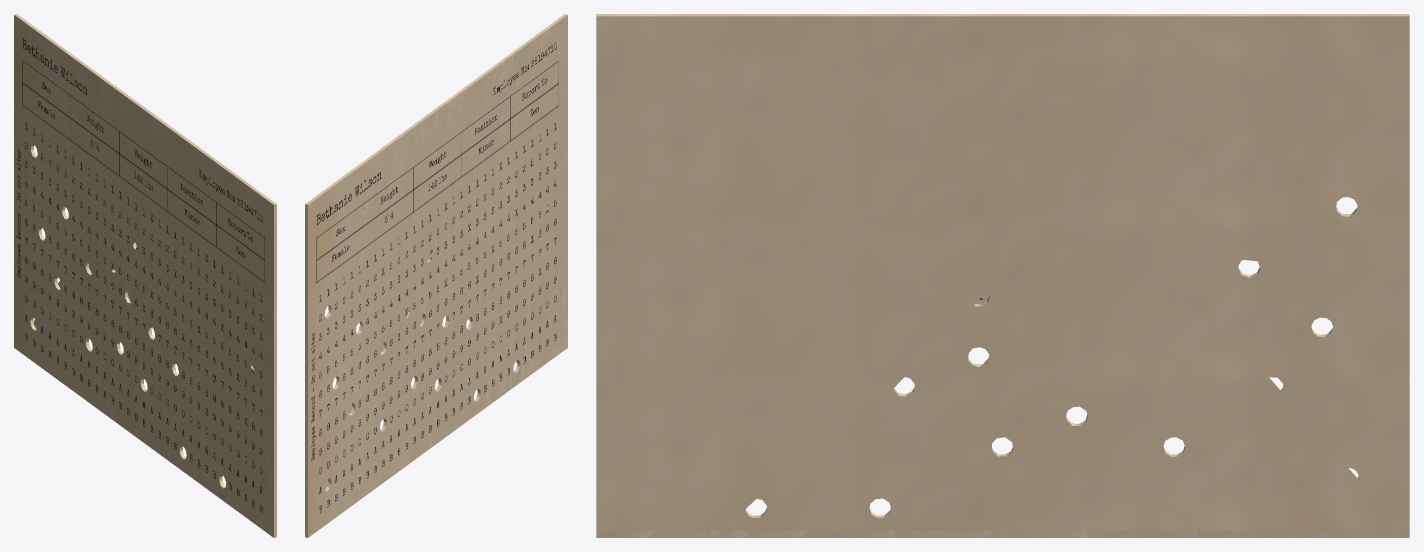
Rendered from employeeCard00Aadi.fbx.
3 renders of one model, left to right at view 1: azimuth 30°, elevation 25°; view 2: azimuth 150°, elevation 25°; view 3: azimuth 270°, elevation 25°, orthographic. The views are drawn at different scales.
Parts seen in each view (by area): view 1: Employee 00 Card Puzzle Punched; view 2: Employee 00 Card Puzzle Punched; view 3: Employee 00 Card Puzzle Punched.
Boxes of the visible parts, <box> form: Employee 00 Card Puzzle Punched: <box>14,14,276,537</box>; Employee 00 Card Puzzle Punched: <box>305,14,567,537</box>; Employee 00 Card Puzzle Punched: <box>596,14,1409,537</box>.
Size of the model in its own units: 0.9779 by 100 by 141.
Materials: 1 (1 with a texture image).
